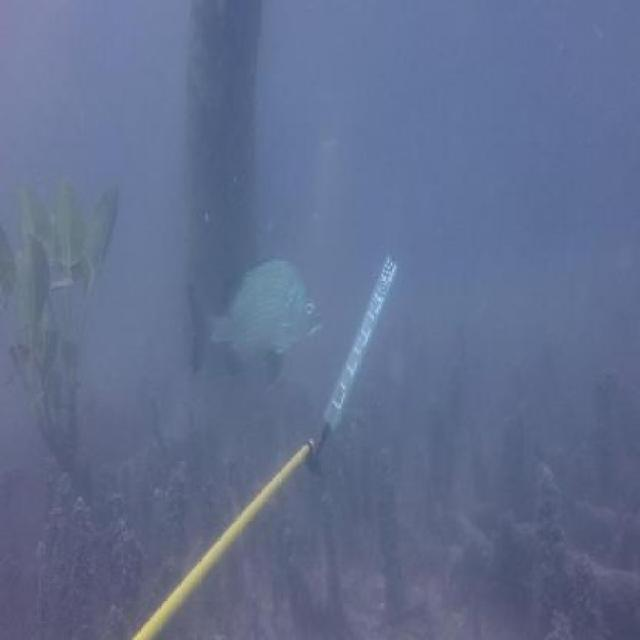acanthopagrus_palmaris: (186, 252, 328, 390)
